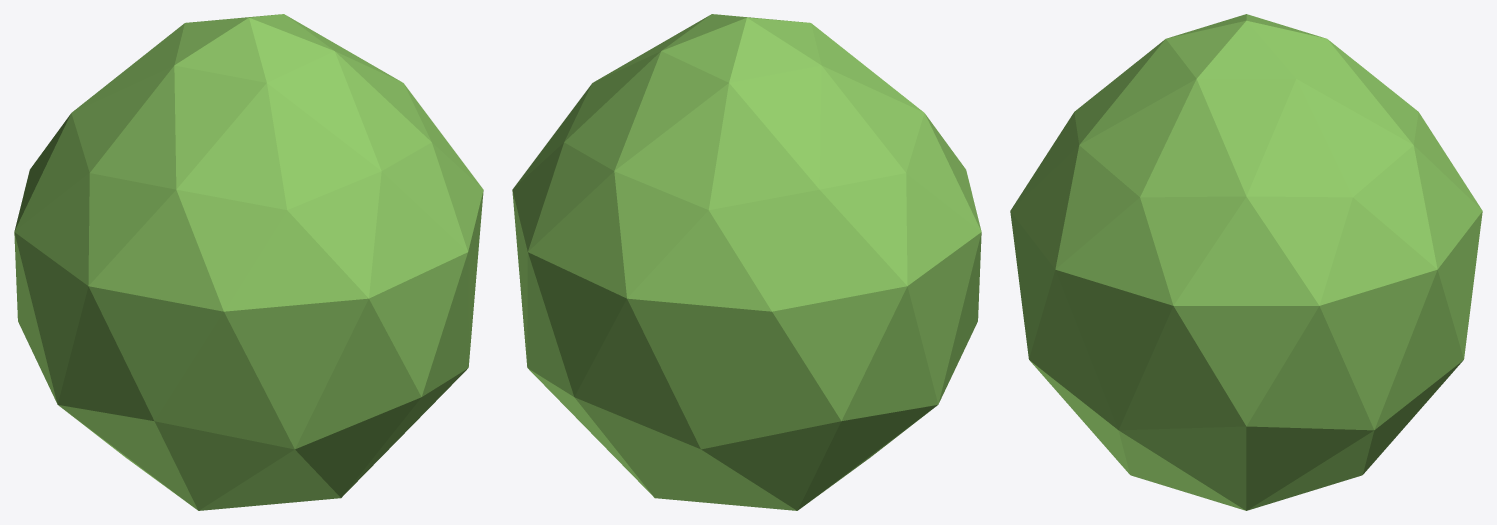
Rendered from Thuja_BushTree_s_05.fbx.
3 renders of one model, left to right at view 1: azimuth 30°, elevation 25°; view 2: azimuth 150°, elevation 25°; view 3: azimuth 270°, elevation 25°, orthographic.
Visible parts, largest first — view 1: Thuja_BushTree_s_05; view 2: Thuja_BushTree_s_05; view 3: Thuja_BushTree_s_05.
Part boxes in pixels (x1=…): Thuja_BushTree_s_05: x1=14, y1=14, x2=483, y2=510; Thuja_BushTree_s_05: x1=512, y1=14, x2=981, y2=510; Thuja_BushTree_s_05: x1=1010, y1=14, x2=1482, y2=510.
Size of the model in its own units: 171 by 185 by 178.
